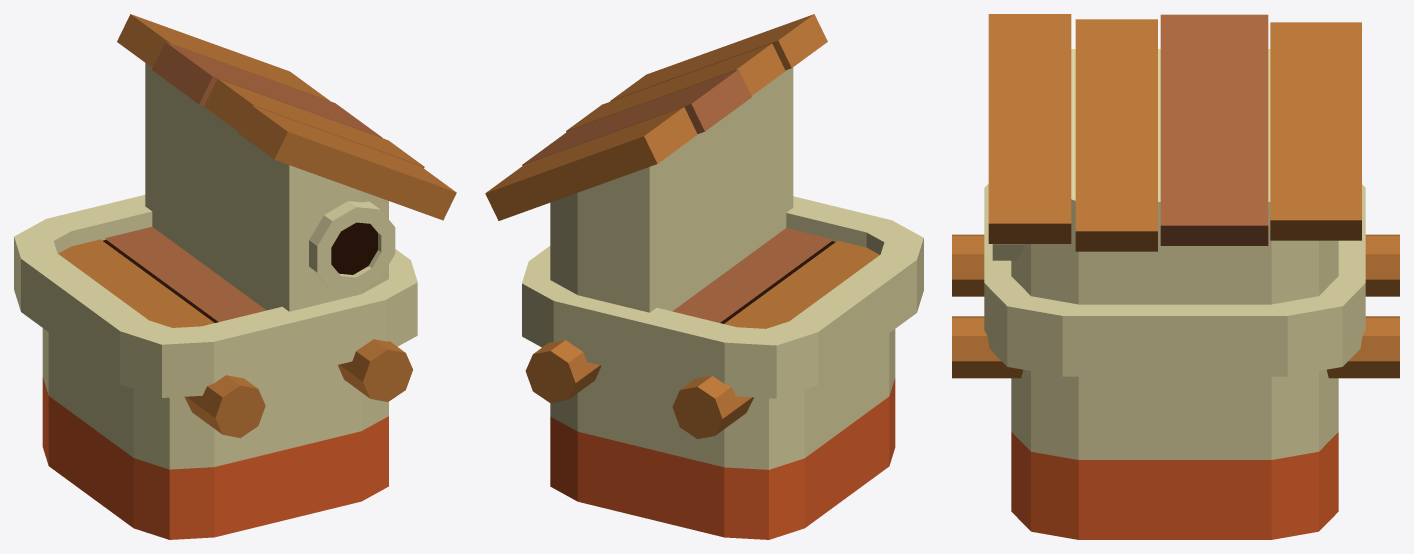
File: house2.fbx
3 renders of one model, left to right at view 1: azimuth 30°, elevation 25°; view 2: azimuth 150°, elevation 25°; view 3: azimuth 270°, elevation 25°, orthographic. The views are drawn at different scales.
Parts seen in each view (by area): view 1: house2; view 2: house2; view 3: house2.
Boxes of the visible parts, left/top/right/bottom form: house2: left=14, top=14, right=456, bottom=539; house2: left=485, top=14, right=923, bottom=539; house2: left=952, top=14, right=1399, bottom=539.
Size of the model in its own units: 137 by 168 by 151.
